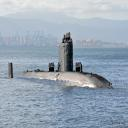submarine: (6, 40, 122, 90)
